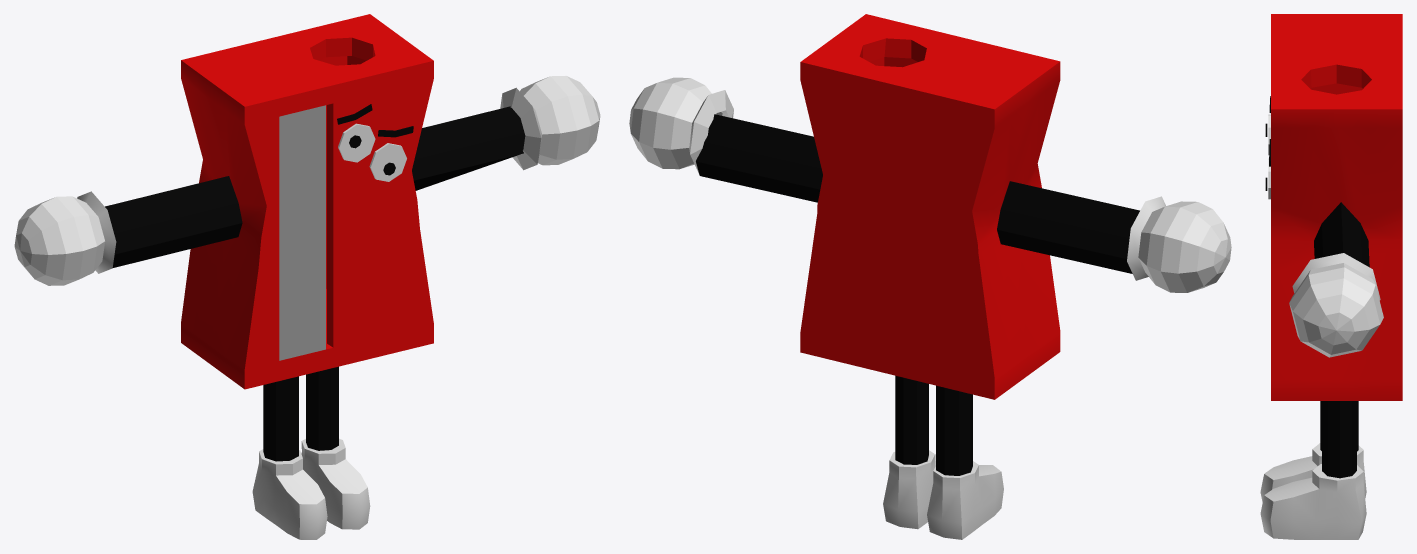
The model's file is Pencil Sharpener character.fbx.
3 renders of one model, left to right at view 1: azimuth 30°, elevation 25°; view 2: azimuth 150°, elevation 25°; view 3: azimuth 270°, elevation 25°, orthographic. The views are drawn at different scales.
Parts seen in each view (by area): view 1: Sharpener; view 2: Sharpener; view 3: Sharpener.
Part boxes in pixels (x1,y1,x2,y2): Sharpener: [14, 14, 600, 539]; Sharpener: [629, 14, 1231, 539]; Sharpener: [1260, 14, 1402, 539].
Bounding box in the file's own units: 42.9 × 31.93 × 8.9.
